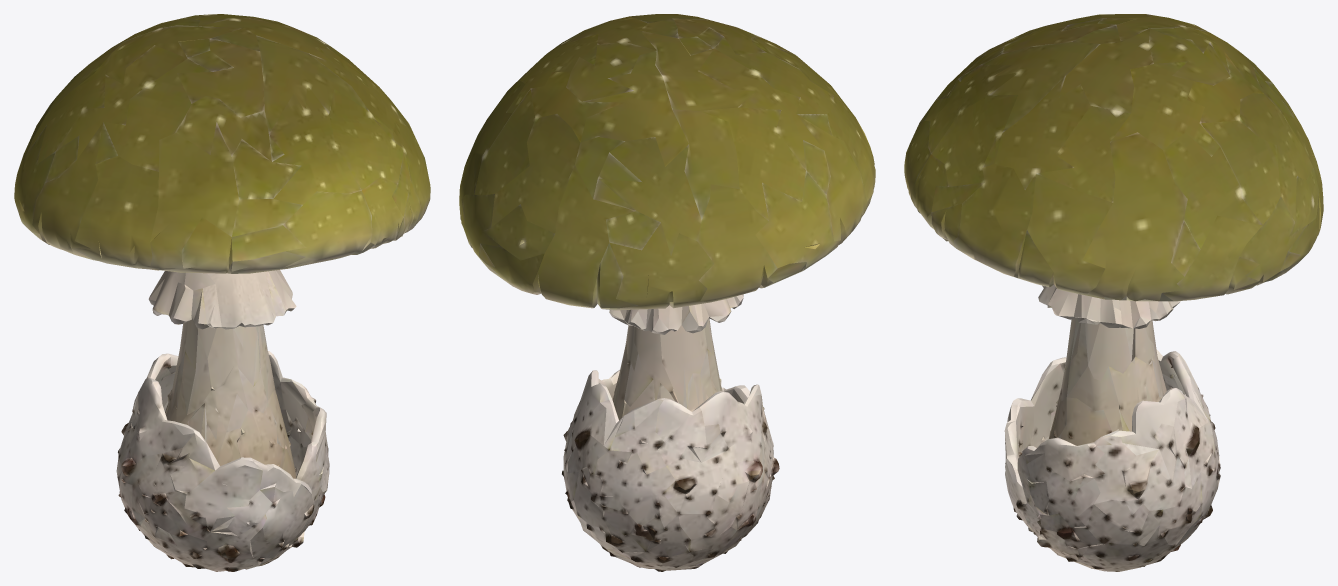
File: koygocuren.glb
3 views of the same model, side by side, from view 1: azimuth 30°, elevation 25°; view 2: azimuth 150°, elevation 25°; view 3: azimuth 270°, elevation 25° (orthographic).
Parts seen in each view (by area): view 1: output_unwrapped; view 2: output_unwrapped; view 3: output_unwrapped.
Boxes of the visible parts, x1,y1,x2,y2 form: output_unwrapped: (14,14,430,571); output_unwrapped: (459,14,875,571); output_unwrapped: (904,14,1323,571).
Bounding box in the file's own units: 1.36 × 1.9 × 1.36.
Materials: 1 (1 with a texture image).
